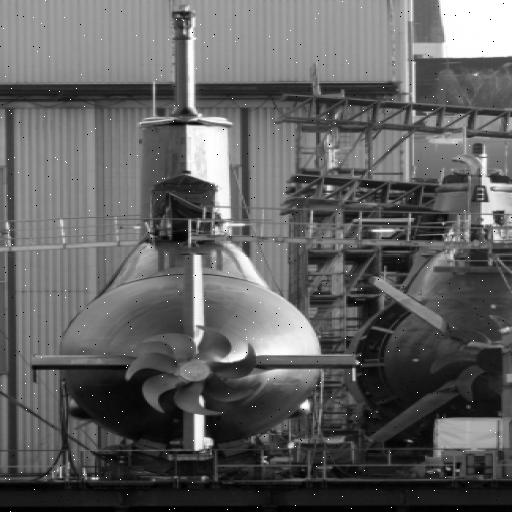submarine: (27, 3, 365, 461), (377, 169, 512, 458)
